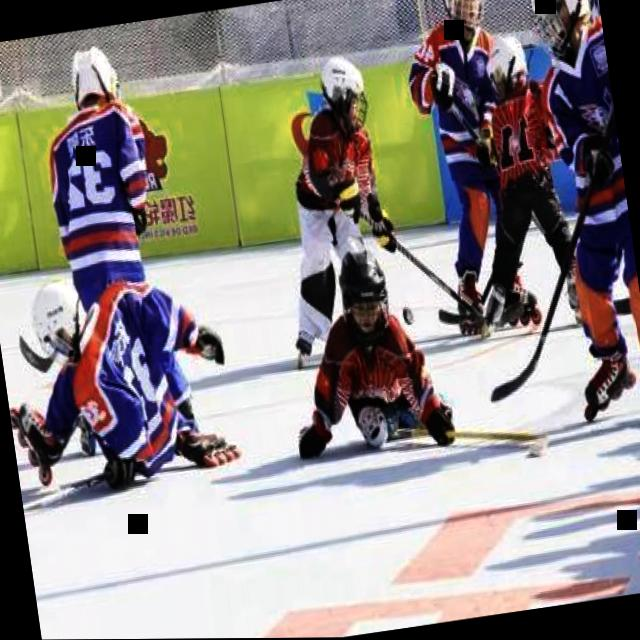Fall-Detected: (0, 240, 258, 513)
